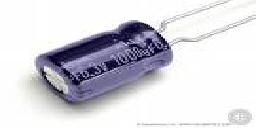Electrolytic-capacitor: (35, 1, 255, 106)
